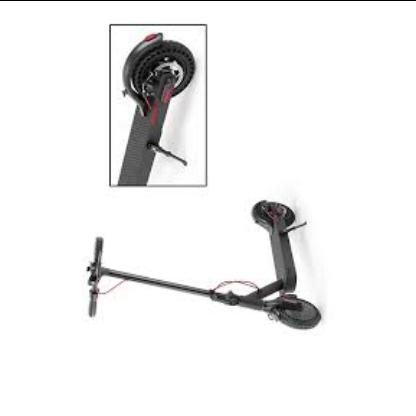bike: (86, 200, 322, 331), (117, 33, 196, 185)
